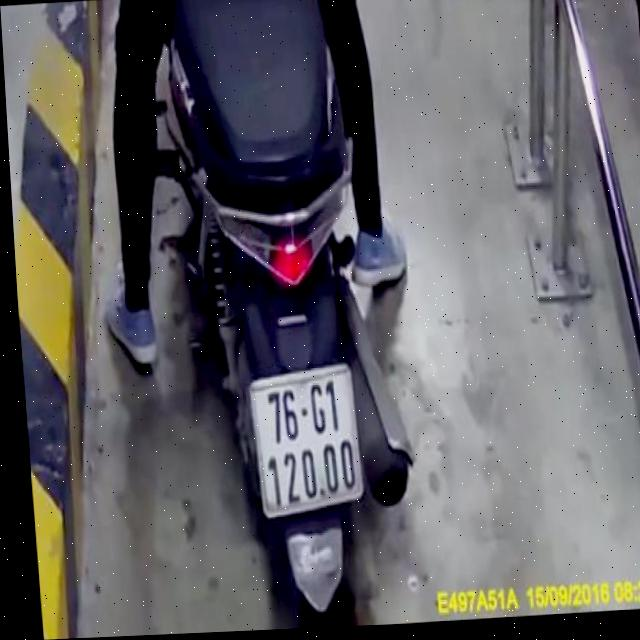motorcycle: (130, 0, 434, 634)
plate: (242, 365, 371, 520)
